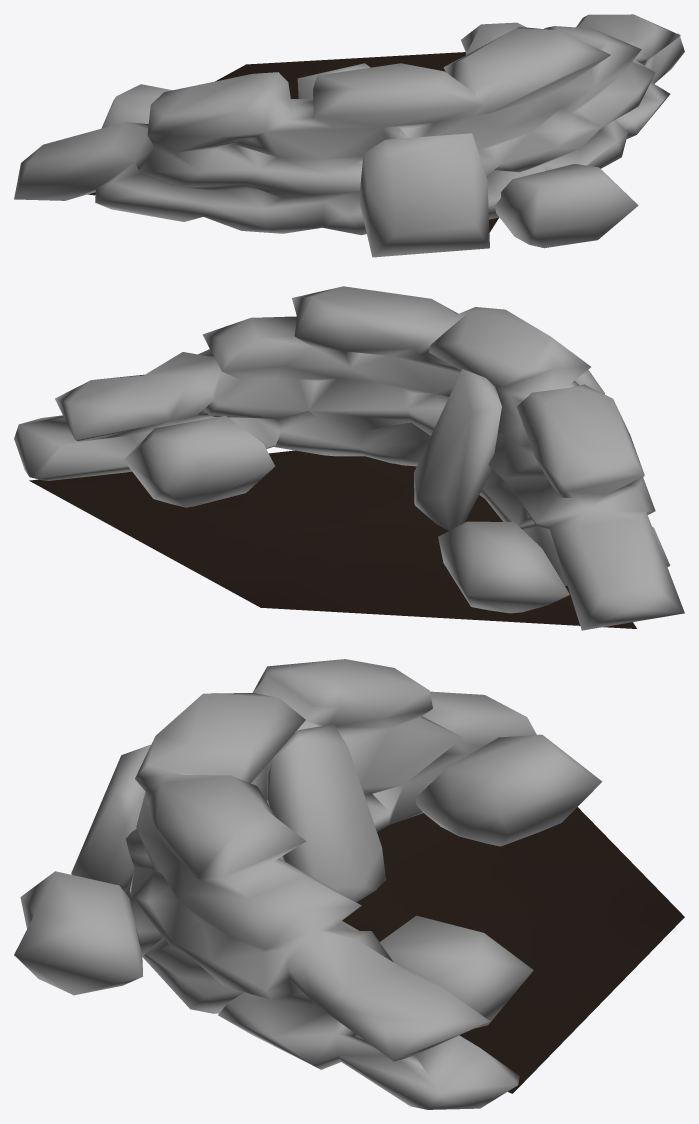
The picture shows the model from 3 angles, top to bottom: view 1: azimuth 30°, elevation 25°; view 2: azimuth 150°, elevation 25°; view 3: azimuth 270°, elevation 25°; orthographic projection. The views are drawn at different scales.
Visible parts, largest first — view 1: cat_Mesh2, Plane; view 2: cat_Mesh2, Plane; view 3: cat_Mesh2, Plane.
Part boxes in pixels (<box>): cat_Mesh2: <box>14,14,684,257</box>; Plane: <box>88,52,499,232</box>; cat_Mesh2: <box>14,286,684,630</box>; Plane: <box>29,450,636,628</box>; cat_Mesh2: <box>14,659,602,1109</box>; Plane: <box>342,807,684,1093</box>.
Size of the model in its own units: 5.62 by 1.3 by 4.04.
